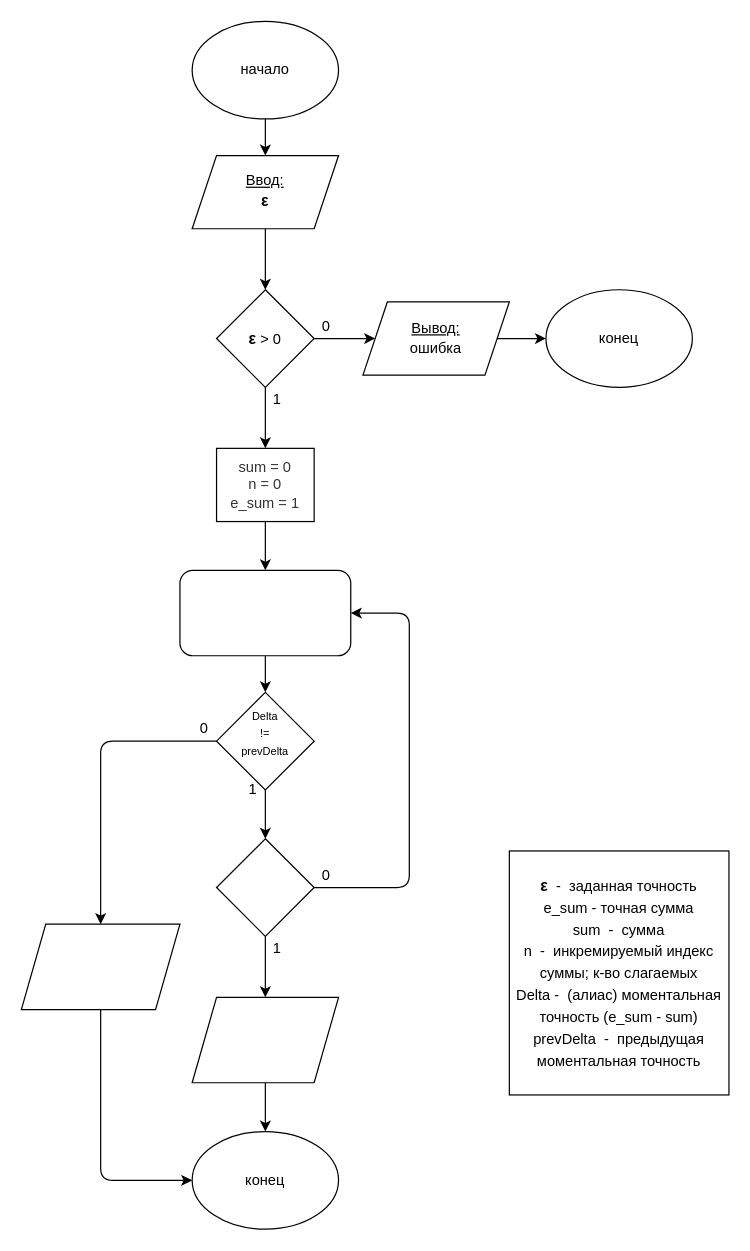
Image size: 750x1251. Some labels were removed from this diagram. Each missing label, with the centre of its shape:
Delta =< ε: (x=264, y=887)
prevDelta = Delta n++ sum += 1 / n / (n + 1): (x=265, y=612)
Вывод: n sum Delta: (x=265, y=1039)
Вывод: ошибка достижения ограничения точности подсчета: (x=100, y=966)
